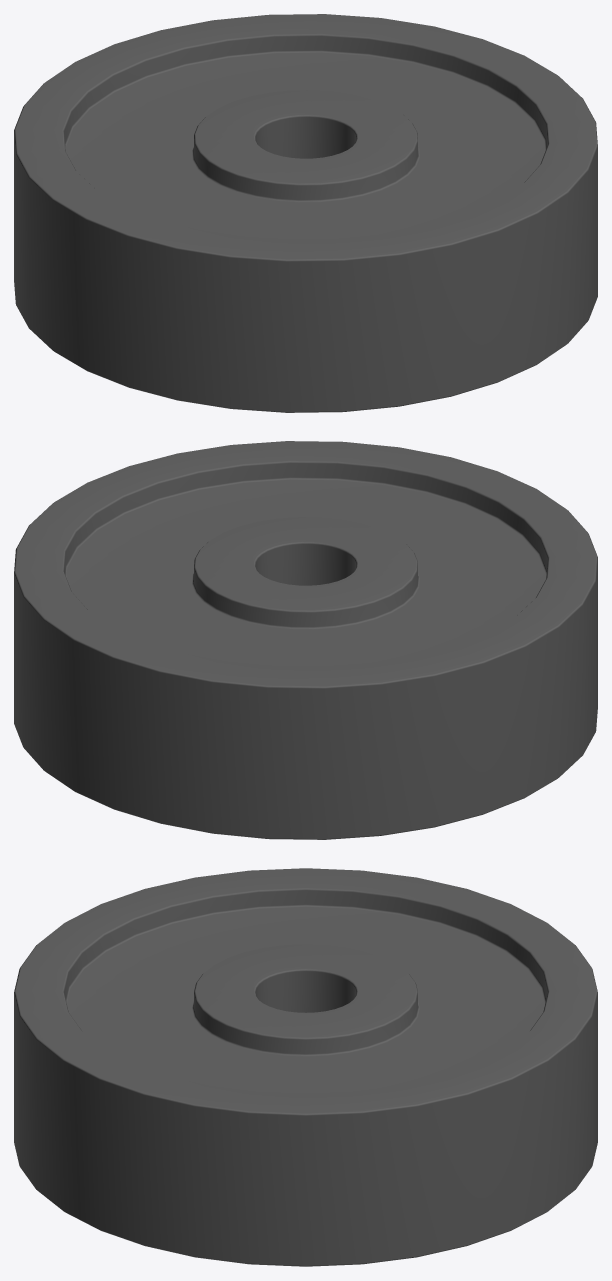
File: Public_18_Weight_1.glb
The picture shows the model from 3 angles, top to bottom: view 1: azimuth 30°, elevation 25°; view 2: azimuth 150°, elevation 25°; view 3: azimuth 270°, elevation 25°; orthographic projection.
Visible parts, largest first — view 1: Public_18_Weight_1; view 2: Public_18_Weight_1; view 3: Public_18_Weight_1.
Part boxes in pixels (left/top/right/bottom): Public_18_Weight_1: left=14, top=14, right=597, bottom=412; Public_18_Weight_1: left=14, top=441, right=597, bottom=839; Public_18_Weight_1: left=14, top=868, right=597, bottom=1266.
Bounding box in the file's own units: 1.77 × 0.5137 × 1.77.
Materials: 1 (1 with a texture image).
